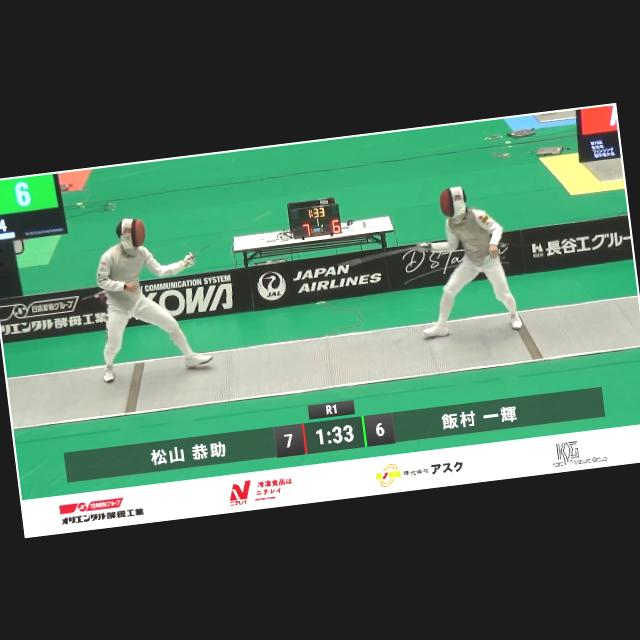blade: (175, 208, 280, 268), (332, 238, 434, 276)
